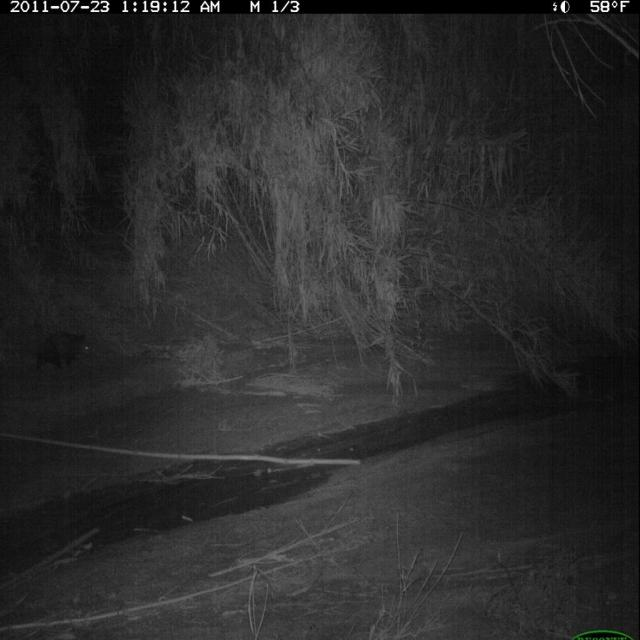opossum: (21, 325, 101, 382)
